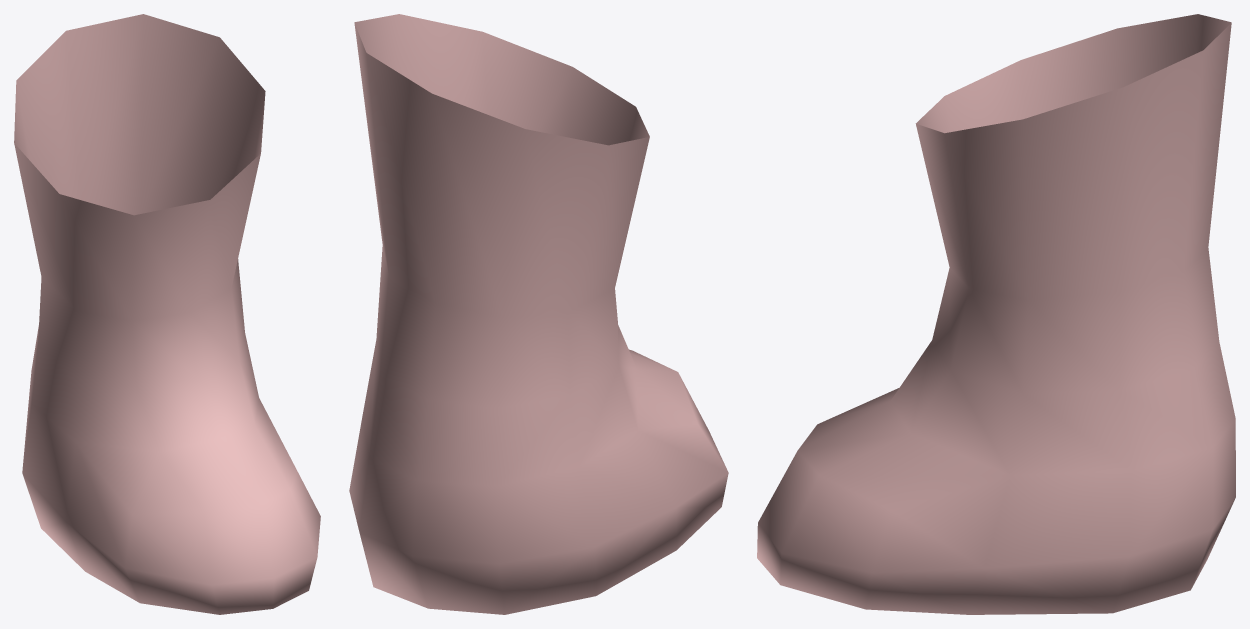
The model's file is Nendoroid_A_Foot03.fbx.
3 renders of one model, left to right at view 1: azimuth 30°, elevation 25°; view 2: azimuth 150°, elevation 25°; view 3: azimuth 270°, elevation 25°, orthographic. The views are drawn at different scales.
Parts seen in each view (by area): view 1: Nendoroid_A_Foot03; view 2: Nendoroid_A_Foot03; view 3: Nendoroid_A_Foot03.
Part boxes in pixels (x1,y1,x2,y2): Nendoroid_A_Foot03: (14,14,320,614); Nendoroid_A_Foot03: (349,14,728,614); Nendoroid_A_Foot03: (757,14,1235,614).
Size of the model in its own units: 0.2533 by 0.4898 by 0.3933.
